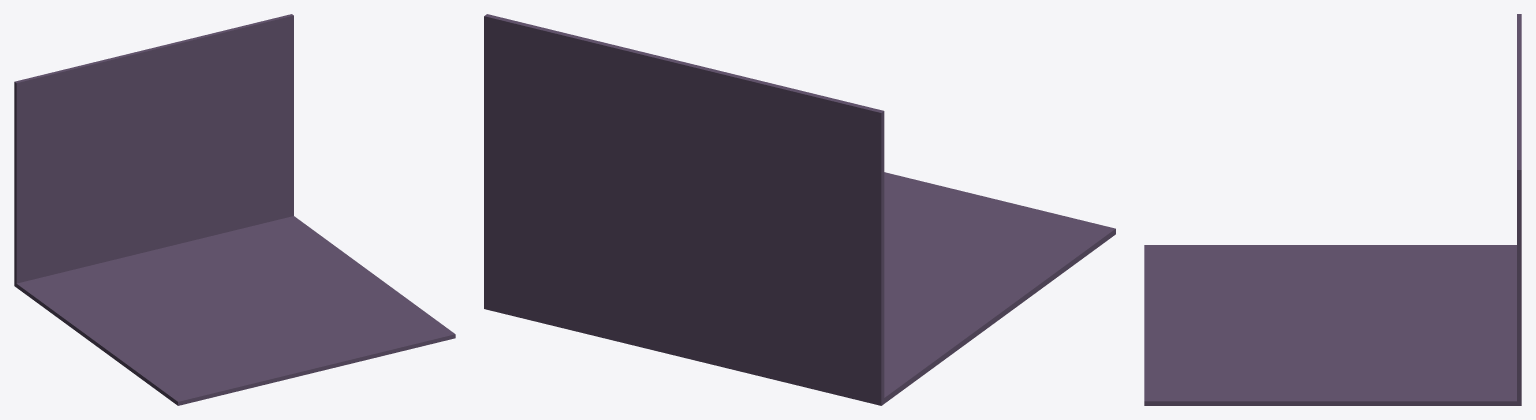
The model's file is Pride_WallFloor.fbx.
The picture shows the model from 3 angles, left to right: view 1: azimuth 30°, elevation 25°; view 2: azimuth 150°, elevation 25°; view 3: azimuth 270°, elevation 25°; orthographic projection. The views are drawn at different scales.
Parts seen in each view (by area): view 1: pasted__Wall; view 2: pasted__Wall; view 3: pasted__Wall.
Part boxes in pixels (x1,y1,x2,y2): pasted__Wall: [14, 14, 455, 405]; pasted__Wall: [484, 14, 1115, 405]; pasted__Wall: [1144, 14, 1521, 405].
Bounding box in the file's own units: 13.64 × 9.61 × 13.94.
